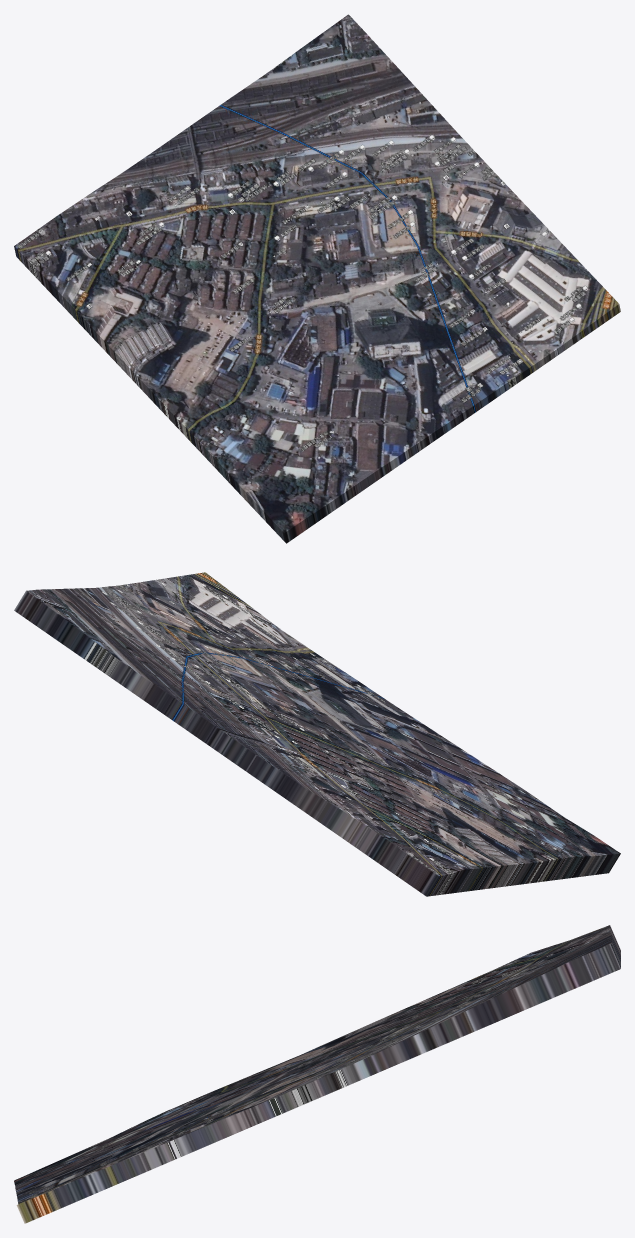
The picture shows the model from 3 angles, top to bottom: view 1: azimuth 30°, elevation 25°; view 2: azimuth 150°, elevation 25°; view 3: azimuth 270°, elevation 25°; orthographic projection. The views are drawn at different scales.
Visible parts, largest first — view 1: 0_4_9; view 2: 0_4_9; view 3: 0_4_9.
Boxes of the visible parts, x1=… form: 0_4_9: x1=14, y1=14, x2=620, y2=543; 0_4_9: x1=14, y1=572, x2=620, y2=896; 0_4_9: x1=14, y1=925, x2=620, y2=1223.
Size of the model in its own units: 601 by 449 by 552.
Materials: 1 (1 with a texture image).
